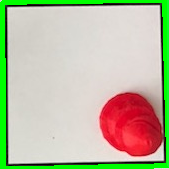Red Bishop: (97, 89, 167, 157)
